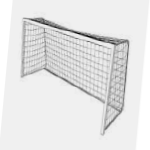goals: (19, 14, 129, 135)
